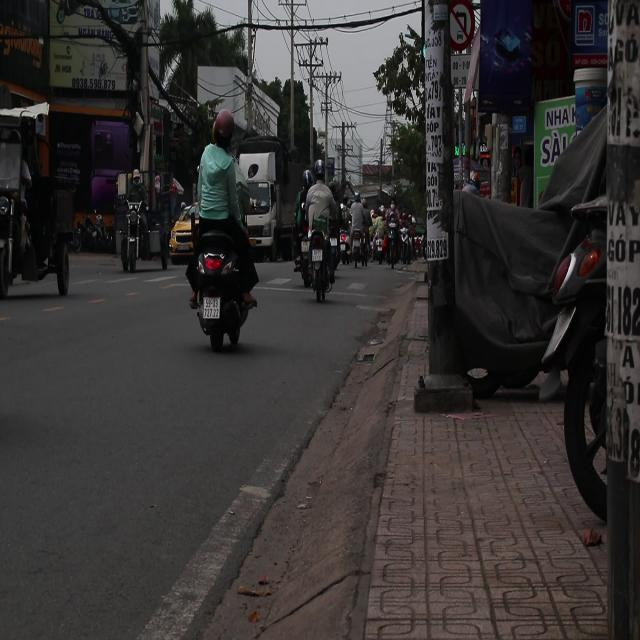car: (169, 204, 197, 258)
motorbike: (183, 218, 259, 355), (296, 206, 332, 311)
truck: (236, 139, 288, 259)
